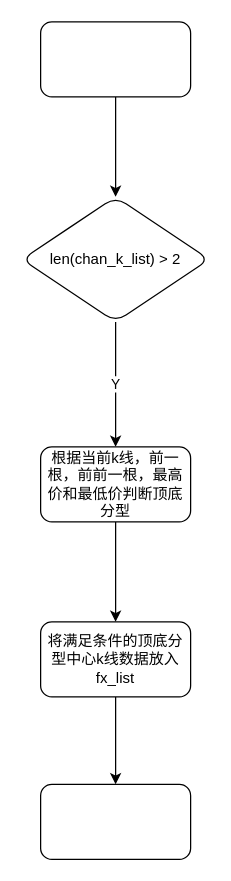
This 231x881 diagram has some shape labels left out. Here are the shapes that lost their labels. From the top down, the centre of each, then its label:
At pixel 115 59: "输入：chan_k_list 存储包含处理后的k线".
At pixel 115 821: "如果分型成功：进行画笔处理".
